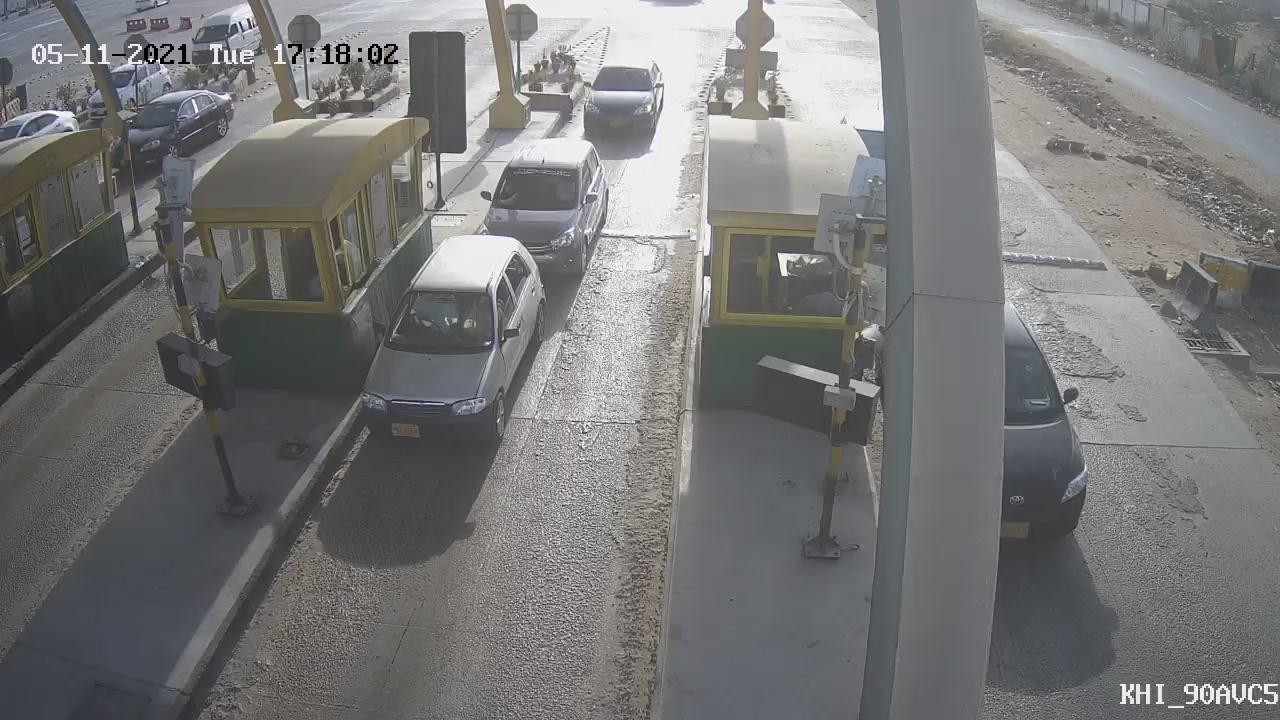F1: (334, 224, 565, 469), (465, 124, 621, 292), (569, 48, 678, 149)
